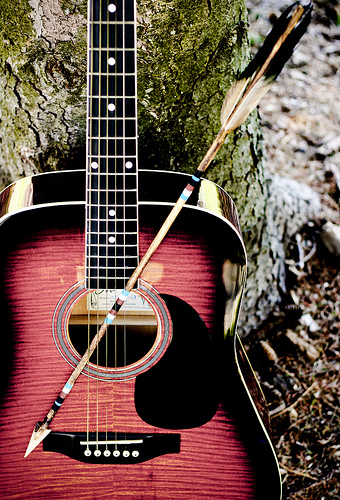guitar: (1, 1, 291, 500)
